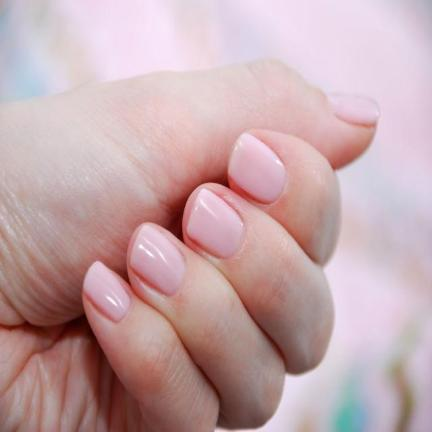Nail: (186, 188, 244, 258), (228, 133, 285, 203), (130, 224, 183, 294), (84, 262, 130, 322), (330, 96, 380, 127)
